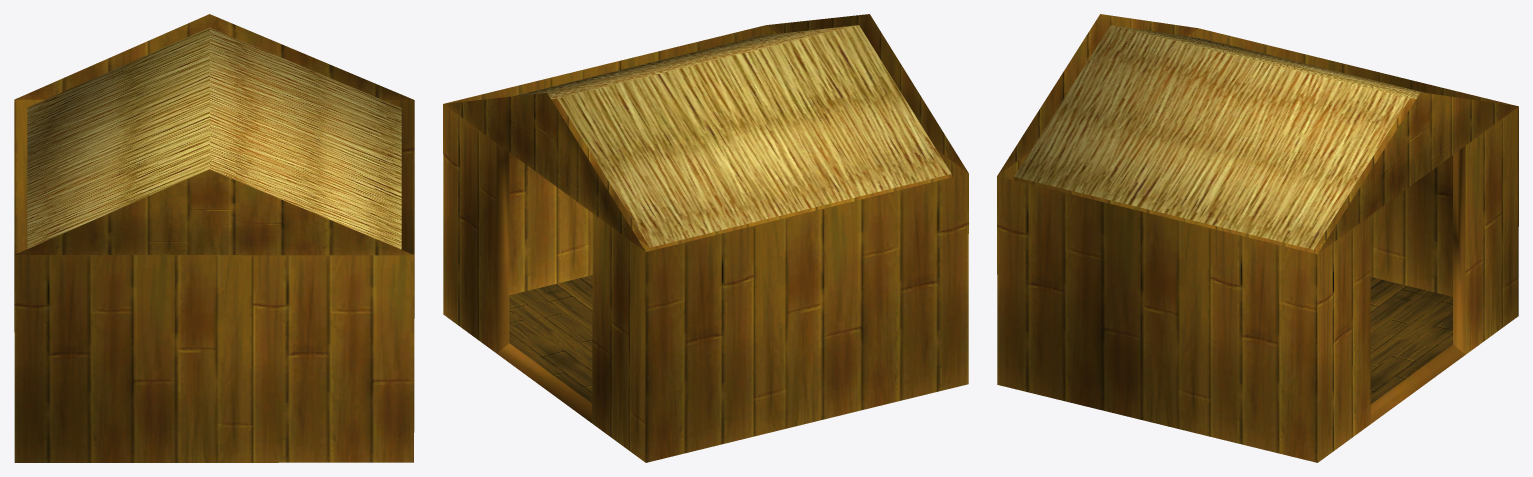
Rendered from HTOWN01_HANNASHED.fbx.
The picture shows the model from 3 angles, left to right: view 1: azimuth 30°, elevation 25°; view 2: azimuth 150°, elevation 25°; view 3: azimuth 270°, elevation 25°; orthographic projection.
Parts seen in each view (by area): view 1: HTOWN01_HANNASHED; view 2: HTOWN01_HANNASHED; view 3: HTOWN01_HANNASHED.
Boxes of the visible parts, x1=… form: HTOWN01_HANNASHED: x1=14, y1=14, x2=414, y2=462; HTOWN01_HANNASHED: x1=443, y1=14, x2=968, y2=462; HTOWN01_HANNASHED: x1=997, y1=14, x2=1518, y2=462.
Size of the model in its own units: 45269 by 27657 by 44240.
Materials: 3 (3 with a texture image).
